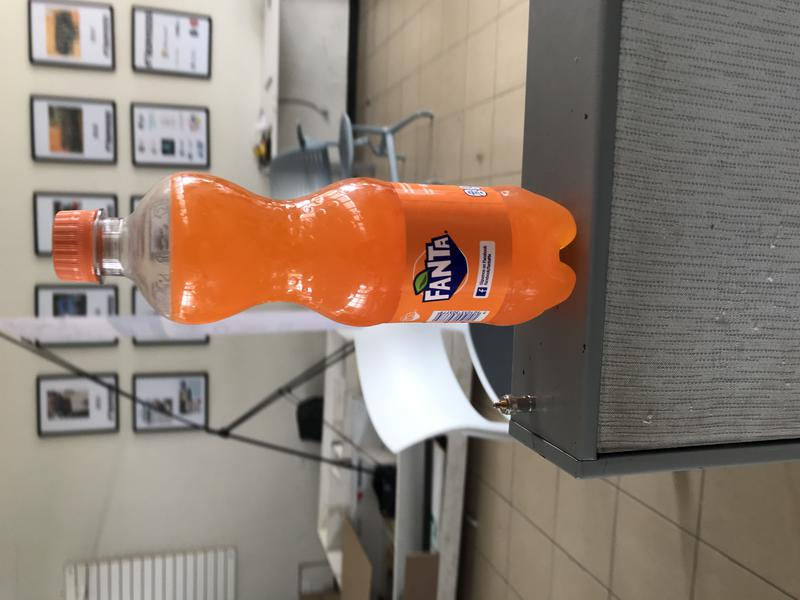fanta: (52, 173, 578, 330)
